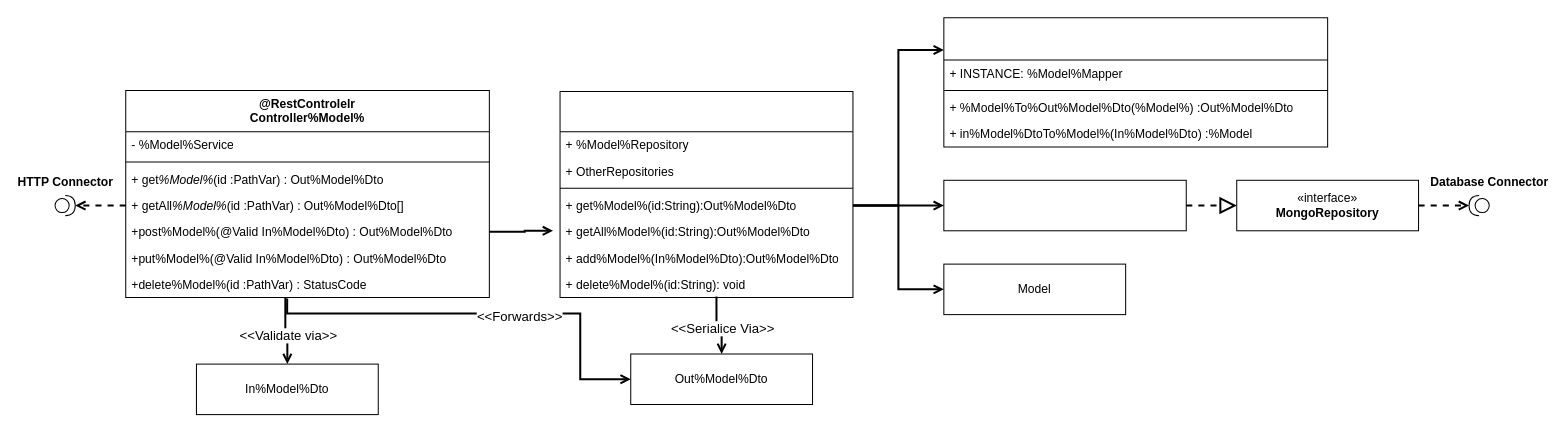
This 1566x432 diagram has some shape labels left out. The shapes that lost their labels are listed below. From the top down, each one's box as (x1, y1, x2, y2) in pixels, then its label:
(943, 17, 1328, 147): «interface» %Model%Mapper
(559, 90, 853, 297): @Service %Model%Service
(943, 179, 1186, 231): «interface» %Model%Repository<%Mdoel%, String>
